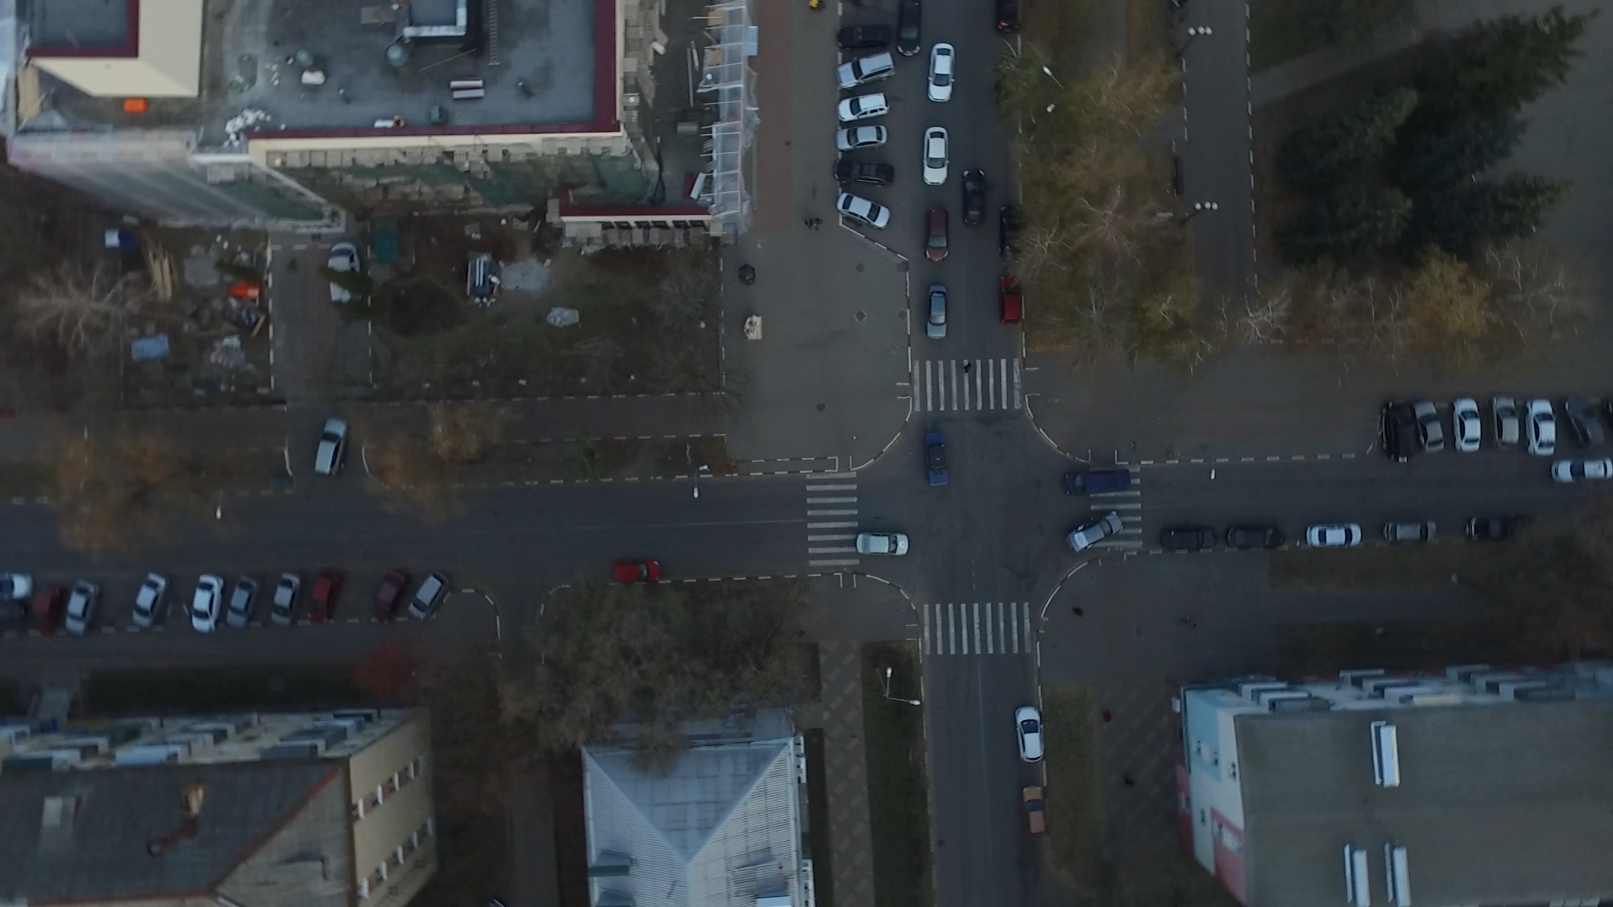car: (1065, 511, 1126, 554), (187, 573, 226, 638), (1563, 394, 1605, 454), (833, 193, 890, 234), (836, 53, 897, 90), (405, 570, 446, 623), (832, 157, 894, 192), (1381, 399, 1414, 464), (371, 568, 409, 623), (130, 576, 169, 627), (1465, 513, 1534, 542), (64, 583, 102, 636), (314, 419, 349, 475), (925, 43, 957, 105), (919, 127, 953, 187), (1524, 399, 1558, 457), (306, 570, 341, 625), (28, 585, 65, 636), (224, 579, 260, 631), (1490, 391, 1522, 450), (1414, 398, 1446, 455), (921, 204, 953, 261), (1549, 453, 1613, 482), (859, 526, 912, 560), (269, 571, 301, 627), (895, 1, 927, 56), (1016, 707, 1045, 767), (921, 284, 951, 341), (1224, 522, 1280, 553), (1064, 468, 1133, 493), (1451, 398, 1479, 458), (1157, 524, 1212, 554), (960, 169, 989, 226), (833, 21, 887, 51), (613, 553, 666, 583), (1307, 521, 1360, 549), (1380, 517, 1435, 545), (836, 93, 887, 122), (832, 126, 888, 152), (925, 430, 948, 489), (1021, 786, 1047, 841), (999, 205, 1024, 260), (1000, 272, 1023, 326), (996, 1, 1021, 38)
